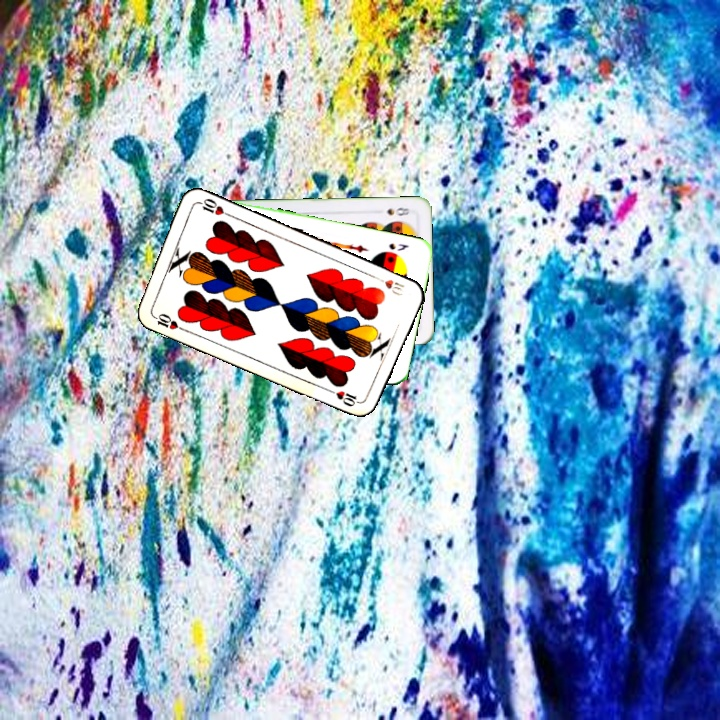H10: (370, 272, 407, 299), (149, 309, 187, 334)
S8: (383, 204, 412, 218)
SK: (385, 239, 411, 253)
